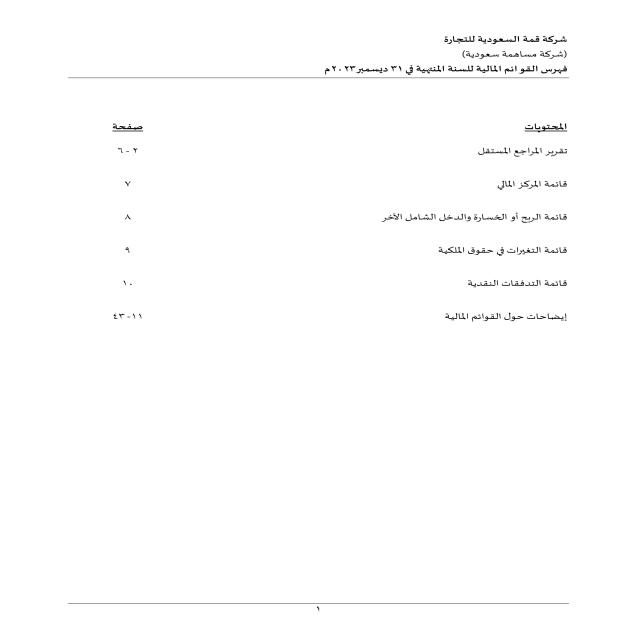other: (91, 108, 576, 342)
